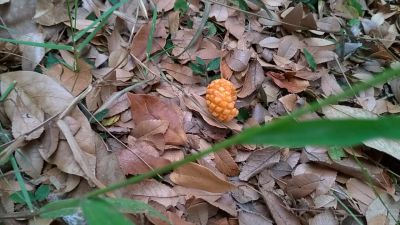eggs: (204, 75, 241, 125)
